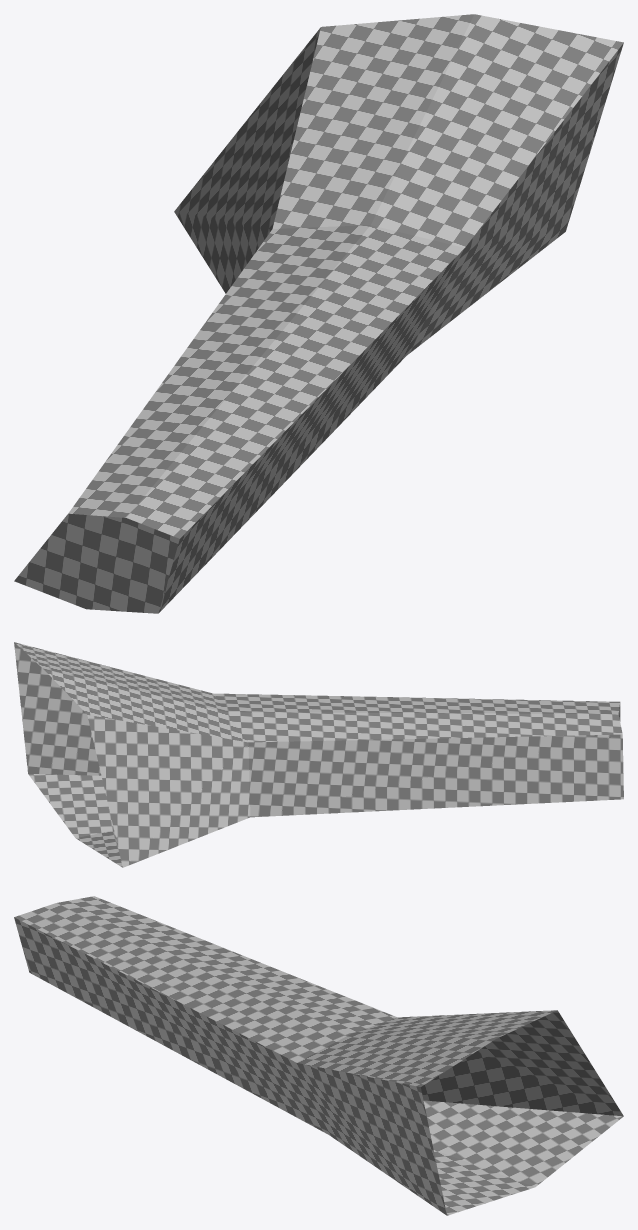
The model's file is prv1p-10.obj.
The picture shows the model from 3 angles, top to bottom: view 1: azimuth 30°, elevation 25°; view 2: azimuth 150°, elevation 25°; view 3: azimuth 270°, elevation 25°; orthographic projection. The views are drawn at different scales.
Parts seen in each view (by area): view 1: Cube.009; view 2: Cube.009; view 3: Cube.009.
Boxes of the visible parts, left/top/right/bottom form: Cube.009: left=14, top=14, right=623, bottom=613; Cube.009: left=14, top=642, right=623, bottom=867; Cube.009: left=14, top=896, right=623, bottom=1215.
Size of the model in its own units: 79.19 by 22.29 by 69.83.
